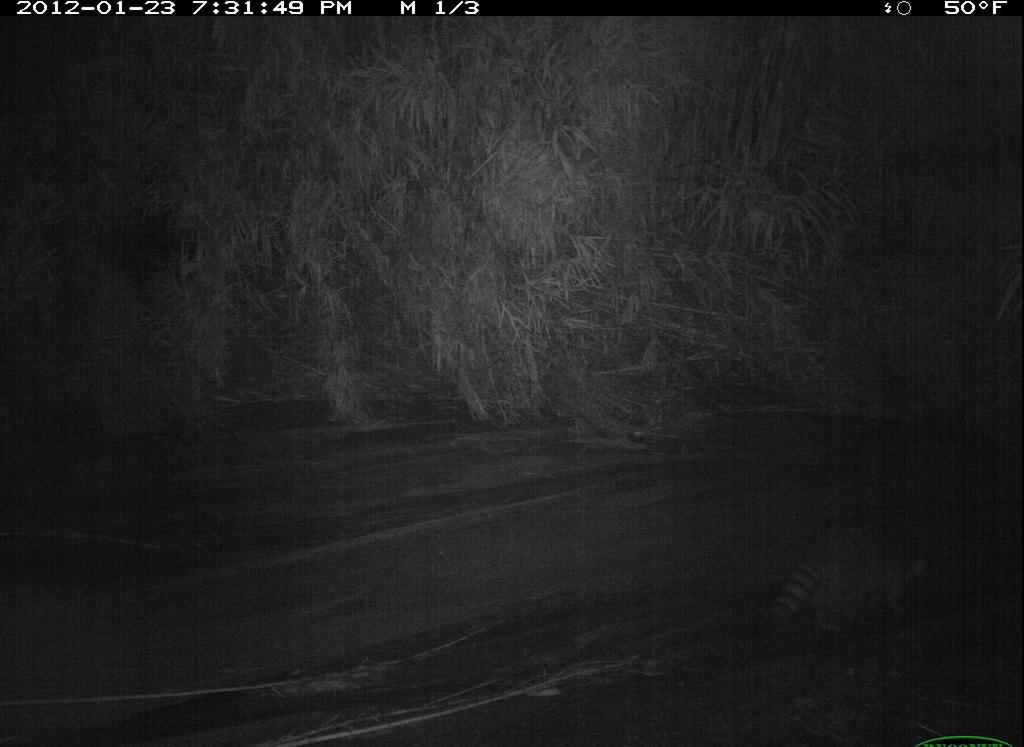raccoon: (756, 510, 931, 642)
